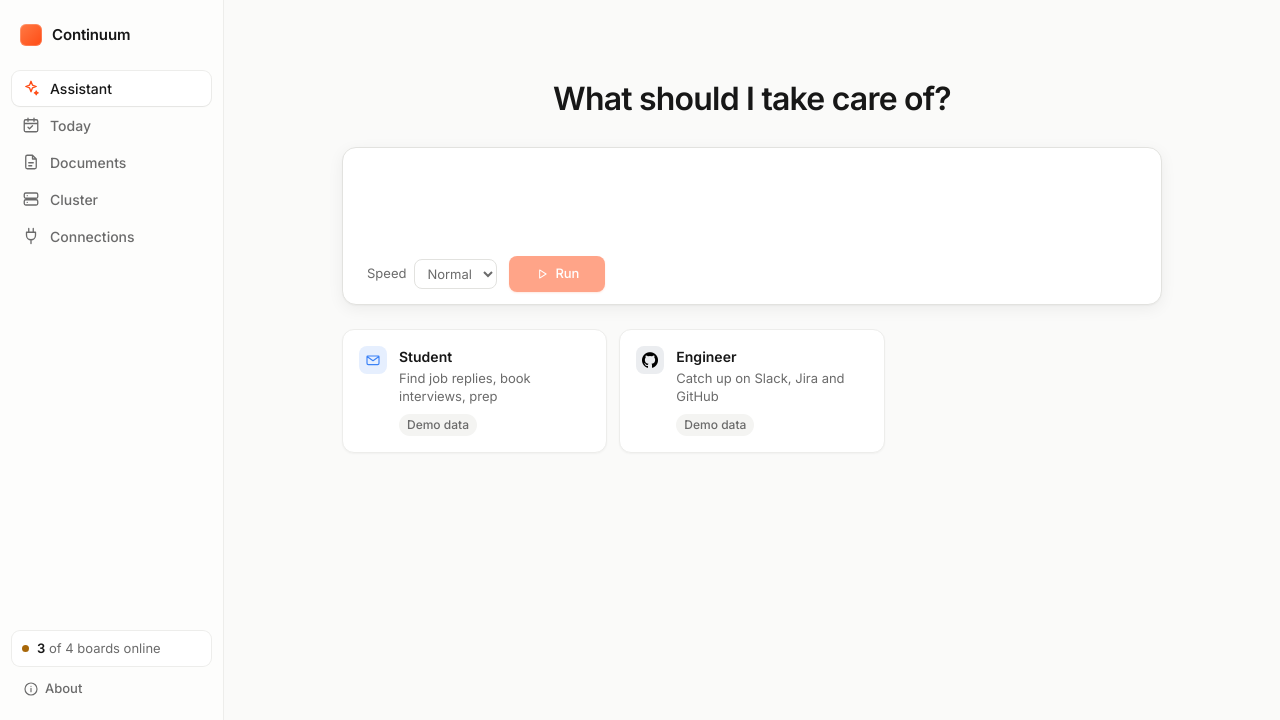
Assistant: ask › opens on an empty page asking what the boards should do, with an example job per audience, marked as demo data
The width and height of the screenshot is (1280, 720).
Expected: the heading "What should I take care of?" is shown, [553,79,951,118]
Expected: the button "Engineer Catch up on Slack, Jira and GitHub Demo data" is shown, [619,329,885,453]
Click the button "Student Find job replies, book interviews, prep Demo data" at (475, 391), box [342,329,607,453]
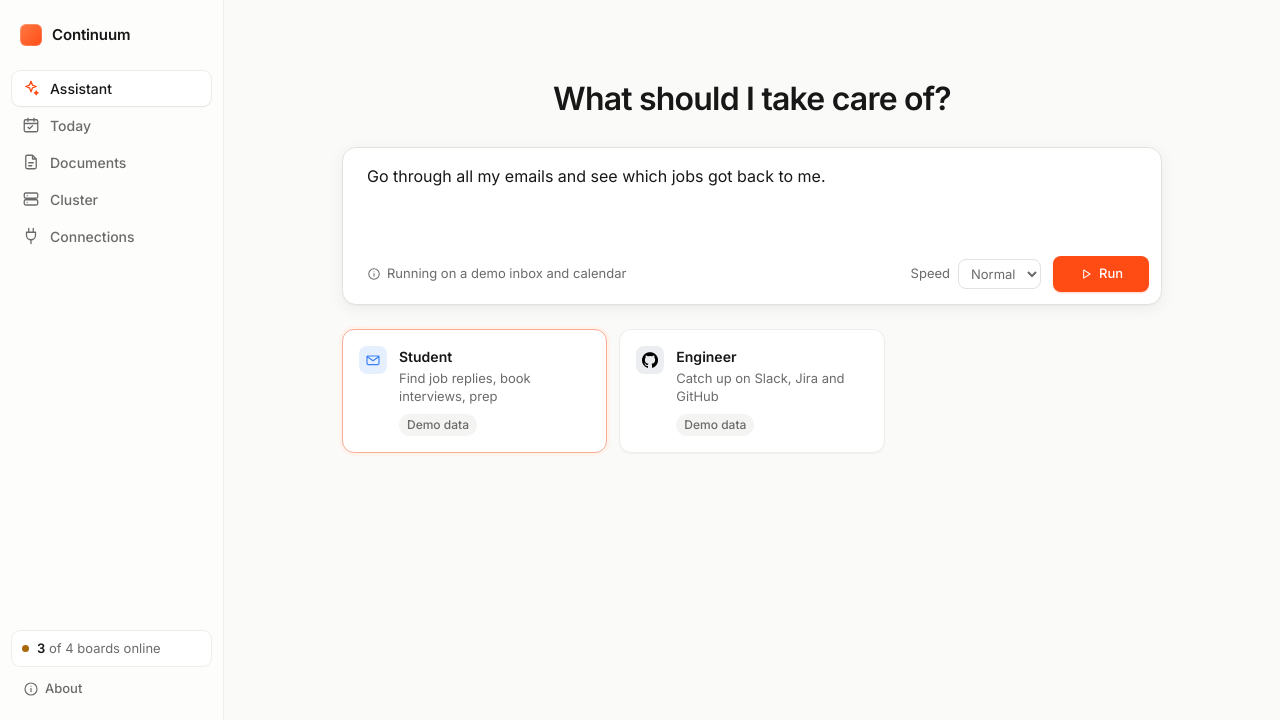
Now the text "Running on a demo inbox and calendar" is shown, box [367,264,626,284]
Click the button "Engineer Catch up on Slack, Jira and GitHub Demo data" at (706, 357), box [619,329,885,453]
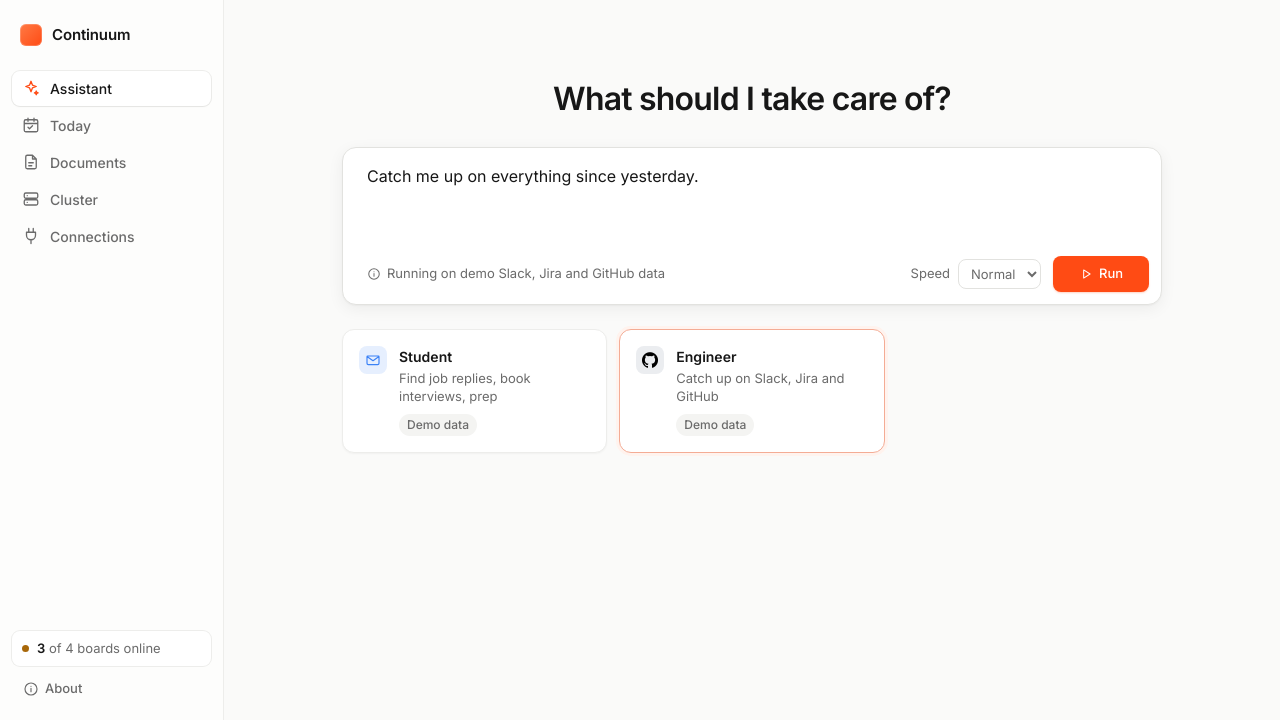
Now the text box named "Job" holds "Catch me up on everything since yesterday.", box [343,148,1161,244]
